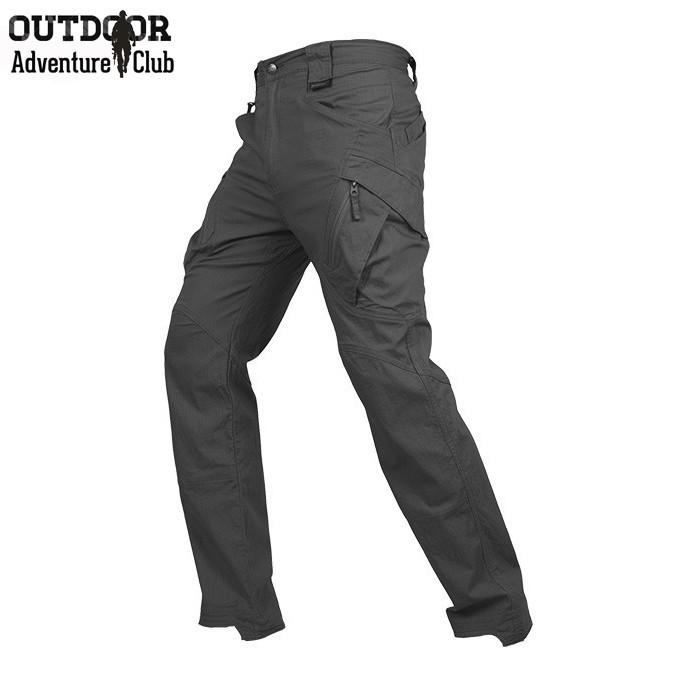pants: (147, 42, 534, 656)
